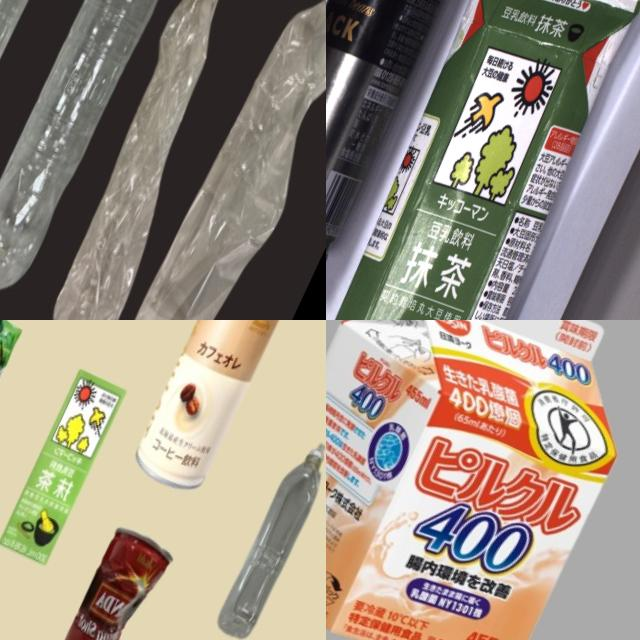Aluminium Foil: (326, 0, 640, 320), (326, 320, 640, 640), (0, 360, 135, 577)
Can: (326, 0, 486, 267), (120, 320, 304, 507), (30, 512, 178, 640)
Transparent Plastic Bottle: (30, 0, 296, 320), (0, 0, 249, 298), (118, 0, 326, 320), (0, 0, 140, 251), (205, 430, 326, 640)
